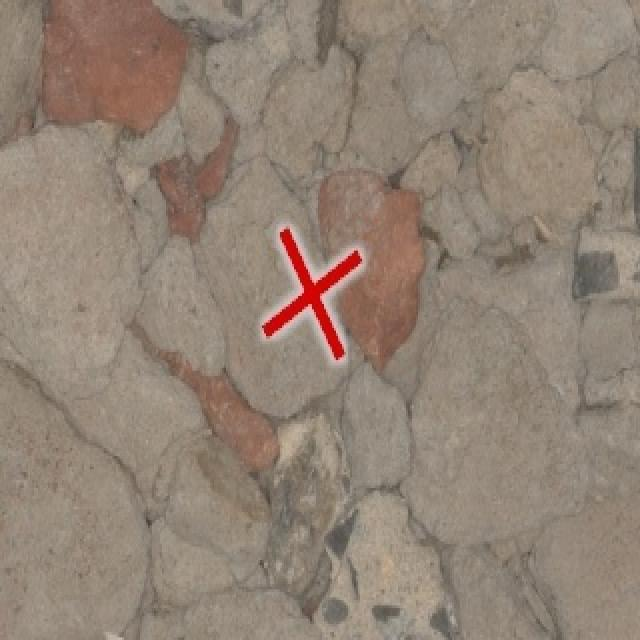x_marker: (263, 228, 361, 359)
